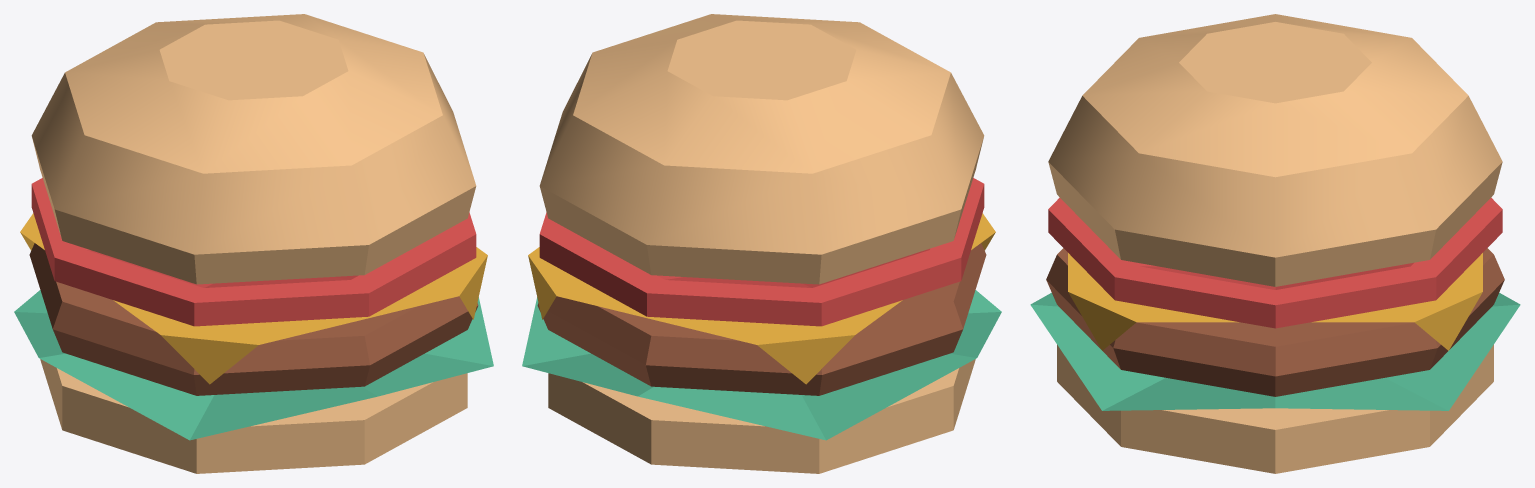
Rendered from burger.fbx.
The picture shows the model from 3 angles, left to right: view 1: azimuth 30°, elevation 25°; view 2: azimuth 150°, elevation 25°; view 3: azimuth 270°, elevation 25°; orthographic projection.
Parts seen in each view (by area): view 1: bunTop, patty, bunBottom, tomato, salad, cheese; view 2: bunTop, patty, bunBottom, tomato, salad, cheese; view 3: bunTop, patty, tomato, bunBottom, salad, cheese.
Part boxes in pixels (x1,y1,x2,y2): bunTop: (31,14,476,284); patty: (29,243,478,395); bunBottom: (40,359,467,473); tomato: (31,178,476,326); salad: (14,290,493,440); cheese: (20,213,487,384); bunTop: (539,14,984,284); patty: (537,243,986,395); bunBottom: (548,359,975,473); tomato: (539,178,984,326); salad: (522,290,1001,440); cheese: (528,213,995,384); bunTop: (1048,14,1502,286); patty: (1046,248,1504,396); tomato: (1048,197,1502,328); bunBottom: (1057,344,1493,473); salad: (1030,292,1520,410); cheese: (1068,253,1482,350).
Size of the model in its own units: 4.04 by 2.9 by 4.04.
